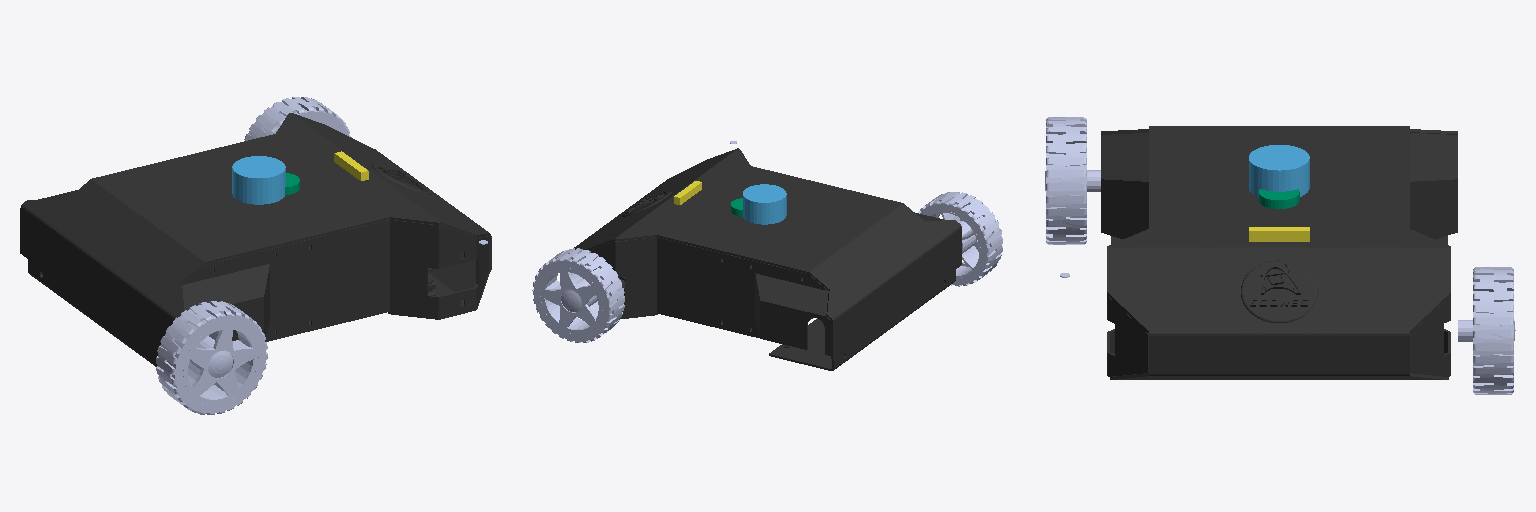
robot.urdf — neor_mini:
<?xml version="1.0" encoding="utf-8"?>
<!-- This URDF was automatically created by SolidWorks to URDF Exporter! Originally created by [author] ([email redacted]) 
     Commit Version: 1.5.1-0-g916b5db  Build Version: 1.5.7152.31018
     For more information, please see http://wiki.ros.org/sw_urdf_exporter -->
<robot name="neor_mini">

  <!-- Add Gazebo plugins -->
    <!-- Load ros_control plugin using the steer_bot_hardware_gazebo
    implementation of the hardware_interface::RobotHW -->

  <gazebo>
    <plugin name="gazebo_ros_control" filename="libgazebo_ros_control.so">
      <robotSimType>steer_bot_hardware_gazebo/SteerBotHardwareGazebo</robotSimType>
      <legacyModeNS>false</legacyModeNS>
    </plugin>
  </gazebo>

    <link name="base_link">
    <!-- avoid root link inertia warnings, annotation -->
    <inertial>
      <origin
        xyz="0.030649671440691 -1.79069899872708E-05 0.0558717976709459"
        rpy="0 0 0" />
      <mass
        value="1.72617713171385" />
      <inertia
        ixx="0.0107311274569357"
        ixy="-3.24164649120244E-08"
        ixz="0.00169188715816868"
        iyy="0.0198871551919603"
        iyz="2.40252669081509E-07"
        izz="0.0269841937242323" />
    </inertial>

    <visual>
      <origin xyz="0 0 0" rpy="0 0 0" />
      <geometry>
        <mesh filename="package://neor_mini/meshes/base_link.dae" />
      </geometry>
      <material name="">
      <color rgba="0.250980392156863 0.250980392156863 0.250980392156863 1" /> 
      </material> 
    </visual>
    <collision>
      <origin
        xyz="0 0 0"
        rpy="0 0 0" />
      <geometry>
        <mesh
          filename="package://neor_mini/meshes/base_link.STL" />
      </geometry>
    </collision>
  </link>
  <link
    name="rear_wheel_link">
    <inertial>
      <origin
        xyz="-8.88178419700125E-16 -2.05391259555654E-14 -0.00112500000001892"
        rpy="0 0 0" />
      <mass
        value="5.65486677646169E-05" />
      <inertia
        ixx="1.32005796313028E-10"
        ixy="-1.938704560671E-27"
        ixz="2.13770572261755E-26"
        iyy="1.32005796313028E-10"
        iyz="-7.60216295195271E-25"
        izz="2.03575203952622E-10" />
    </inertial>
    <visual>
      <origin
        xyz="0 0 0"
        rpy="0 0 0" />
      <geometry>
        <mesh
          filename="package://neor_mini/meshes/rear_wheel_link.STL" />
      </geometry>
      <material
        name="">
        <color
          rgba="0.274509803921569 1 0.247058823529412 1" />
      </material>
    </visual>
    <collision>
      <origin
        xyz="0 0 0"
        rpy="0 0 0" />
      <geometry>
        <mesh
          filename="package://neor_mini/meshes/rear_wheel_link.STL" />
      </geometry>
    </collision>
  </link>
  <joint
    name="rear_wheel_joint"
    type="continuous">
    <origin
      xyz="-0.181499999999597 0 0.0399999999987674"
      rpy="0 0 0" />
    <parent
      link="base_link" />
    <child
      link="rear_wheel_link" />
    <axis
      xyz="0 1 0" />
  </joint>
  <link
    name="left_rear_link">
    <inertial>
      <origin
        xyz="7.85229659072684E-11 -0.0196762547002777 4.85059770127805E-11"
        rpy="0 0 0" />
      <mass
        value="0.29556182905038" />
      <inertia
        ixx="0.000374087423652291"
        ixy="2.19336154342606E-13"
        ixz="-5.50404301757561E-12"
        iyy="0.000661017199375587"
        iyz="-5.10049385981967E-14"
        izz="0.000374087441459994" />
    </inertial>
    <visual>
      <origin
        xyz="0 0 0"
        rpy="0 0 0" />
      <geometry>
        <mesh
          filename="package://neor_mini/meshes/left_rear_link.STL" />
      </geometry>
      <material
        name="">
        <color
          rgba="0.792156862745098 0.819607843137255 0.933333333333333 1" />
      </material>
    </visual>
    <collision>
      <origin
        xyz="0 0 0"
        rpy="0 0 0" />
      <geometry>
        <mesh
          filename="package://neor_mini/meshes/left_rear_link.STL" />
      </geometry>
    </collision>
  </link>
  <joint
    name="left_rear_joint"
    type="continuous">
    <origin
      xyz="-0.181499999999595 0.228542434993694 0.0399999999991634"
      rpy="0 0 0" />
    <parent
      link="base_link" />
    <child
      link="left_rear_link" />
    <axis
      xyz="0 1 0" />
    <limit
      lower="-3.14"
      upper="3.14"
      effort="0"
      velocity="0" />
  </joint>
  <link
    name="right_rear_link">
    <inertial>
      <origin
        xyz="7.8521189550429E-11 0.0196762545376323 3.35983463273237E-11"
        rpy="0 0 0" />
      <mass
        value="0.295561829050389" />
      <inertia
        ixx="0.000374087423652306"
        ixy="-2.1933774523493E-13"
        ixz="5.50404145624456E-12"
        iyy="0.000661017199375601"
        iyz="-5.10073974604221E-14"
        izz="0.000374087441459995" />
    </inertial>
    <visual>
      <origin
        xyz="0 0 0"
        rpy="0 0 0" />
      <geometry>
        <mesh
          filename="package://neor_mini/meshes/right_rear_link.STL" />
      </geometry>
      <material
        name="">
        <color
          rgba="0.792156862745098 0.819607843137255 0.933333333333333 1" />
      </material>
    </visual>
    <collision>
      <origin
        xyz="0 0 0"
        rpy="0 0 0" />
      <geometry>
        <mesh
          filename="package://neor_mini/meshes/right_rear_link.STL" />
      </geometry>
    </collision>
  </link>
  <joint
    name="right_rear_joint"
    type="continuous">
    <origin
      xyz="-0.181499999999595 -0.228542434994426 0.0399999999991584"
      rpy="0 0 0" />
    <parent
      link="base_link" />
    <child
      link="right_rear_link" />
    <axis
      xyz="0 1 0" />
    <limit
      lower="-3.14"
      upper="3.14"
      effort="0"
      velocity="0" />
  </joint>
  <link
    name="front_steer_link">
    <inertial>
      <origin
        xyz="-2.1316282072803E-14 3.67778030252452E-11 -0.00112486602459905"
        rpy="0 0 0" />
      <mass
        value="5.65486677646163E-05" />
      <inertia
        ixx="1.32005796313026E-10"
        ixy="1.16322273640277E-26"
        ixz="1.20446157864484E-28"
        iyy="1.32005796313026E-10"
        iyz="-8.66481261175625E-27"
        izz="2.03575203952619E-10" />
    </inertial>
    <visual>
      <origin
        xyz="0 0 0"
        rpy="0 0 0" />
      <geometry>
        <mesh
          filename="package://neor_mini/meshes/front_steer_link.STL" />
      </geometry>
      <material
        name="">
        <color
          rgba="0.274509803921569 1 0.247058823529412 1" />
      </material>
    </visual>
    <collision>
      <origin
        xyz="0 0 0"
        rpy="0 0 0" />
      <geometry>
        <mesh
          filename="package://neor_mini/meshes/front_steer_link.STL" />
      </geometry>
    </collision>
  </link>
  <joint
    name="front_steer_joint"
    type="revolute">
    <origin
      xyz="0.172883370897628 0 -0.00376561854722868"
      rpy="0 0 0" />
    <parent
      link="base_link" />
    <child
      link="front_steer_link" />
    <axis
      xyz="0 0 1" />
    <limit
      lower="-0.72"
      upper="0.72"
      effort="0"
      velocity="0" />
  </joint>

<!-- In order to fit ackermann simulation plugins's request,amend the front steer link and it's joint -->
 <link name="front_steer_right_link">
 <!--  remember add inertial  label,if not,and it can't visual on gazebo-->
 <inertial>  
      <origin xyz="9.44636555644252E-08 -0.000295273745285485 -8.13046296954667E-11" rpy="0 0 0" />
      <mass value="0.296315811300368" /> 
      <inertia
        ixx="0.000374692013709393"
        ixy="-9.17172260383823E-08"
        ixz="-2.43187512356516E-12"
        iyy="0.000661029987747155"
        iyz="1.9736939507106E-13"
        izz="0.000374691963930348" />
    </inertial>
   <visual>
     <geometry>
       <cylinder length="0.001" radius="0.005"/>
     </geometry>
     <origin rpy="0 0 0"  xyz="0 0 0" />
     <material name=""> 
          <color rgba="0.792156862745098 0.819607843137255 0.933333333333333 1" />
     </material>
   </visual>
   <collision>
      <origin
        xyz="0 0 0"
        rpy="0 0 0" />
      <geometry>
       <cylinder length="0.001" radius="0.005"/>
      </geometry>
    </collision>
 </link>
 <joint name="front_steer_right_joint" type="revolute">
    <origin rpy="0 0 0"  xyz="0.17 -0.21 0.102" />
    <parent link="base_link" />
    <child link="front_steer_right_link" />
    <axis xyz="0 0 1" />     <!-- charge steer direction default is 0 0 1-->
    <limit lower="-0.69" upper="0.69" effort="0" velocity="0" />
 </joint>
<!-- ************************************************************************************* -->

  <link
    name="front_right_wheel_link">
    <inertial>
      <origin
        xyz="9.44636555644252E-08 -0.000295273745285485 -8.13046296954667E-11"
        rpy="0 0 0" />
      <mass
        value="0.296315811300368" />
      <inertia
        ixx="0.000374692013709393"
        ixy="-9.17172260383823E-08"
        ixz="-2.43187512356516E-12"
        iyy="0.000661029987747155"
        iyz="1.9736939507106E-13"
        izz="0.000374691963930348" />
    </inertial>
    <visual>
      <origin
        xyz="0 0 0"
        rpy="0 0 0" />
      <geometry>
        <mesh
          filename="package://neor_mini/meshes/front_right_wheel_link.STL" />
      </geometry>
      <material
        name="">
        <color
          rgba="0.792156862745098 0.819607843137255 0.933333333333333 1" />
      </material>
    </visual>
    <collision>
      <origin
        xyz="0 0 0"
        rpy="0 0 0" />
      <geometry>
        <mesh
          filename="package://neor_mini/meshes/front_right_wheel_link.STL" />
      </geometry>
    </collision>
  </link>
  <joint name="front_right_wheel_joint" type="continuous">
    <origin xyz="0 0 -0.06" rpy="0 0 0" />   <!-- amend the position between steer_right_link and front right wheel-->
    <parent link="front_steer_right_link" />
    <child  link="front_right_wheel_link" />
    <axis xyz="0 1 0" />
  </joint>

<!-- In order to fit ackermann simulation plugins's request,amend the front steer link and it's joint -->
 <link name="front_steer_left_link">
 <!--  remember add inertial  label,if not,and it can't visual on gazebo-->
    <inertial> 
      <origin xyz="9.44636555644252E-08 -0.000295273745285485 -8.13046296954667E-11" rpy="0 0 0" />
      <mass value="0.296315811300368" /> 
      <inertia
        ixx="0.000374692013709393"
        ixy="-9.17172260383823E-08"
        ixz="-2.43187512356516E-12"
        iyy="0.000661029987747155"
        iyz="1.9736939507106E-13"
        izz="0.000374691963930348" />
    </inertial>
   <visual>
     <geometry>
       <cylinder length="0.001" radius="0.005"/>
     </geometry>
     <origin rpy="0 0 0"  xyz="0 0 0" />
   </visual>
    <collision>
      <origin xyz="0 0 0" rpy="0 0 0" />
      <geometry>
       <cylinder length="0.001" radius="0.005"/>
      </geometry>
    </collision>
 </link>
 <joint name="front_steer_left_joint" type="revolute">
    <origin rpy="0 0 0"  xyz="0.17 0.21 0.102" />
    <parent link="base_link" />
    <child link="front_steer_left_link" />
    <axis xyz="0 0 1" />  <!-- charge steer direction default is 0 0 1-->
    <limit lower="-0.69" upper="0.69" effort="0" velocity="0" />
 </joint>
<!-- ************************************************************************************* -->

  <link
    name="front_left_wheel_link">
    <inertial>
      <origin
        xyz="-3.99413835339146E-11 0.000295273997845347 1.08602016268833E-10"
        rpy="0 0 0" />
      <mass
        value="0.296315811293944" />
      <inertia
        ixx="0.00037469197851121"
        ixy="-1.84493877596723E-13"
        ixz="-9.50756757097929E-12"
        iyy="0.00066103001709398"
        iyz="-1.17866882205563E-13"
        izz="0.000374691969713977" />
    </inertial>
    <visual>
      <origin
        xyz="0 0 0"
        rpy="0 0 0" />
      <geometry>
        <mesh
          filename="package://neor_mini/meshes/front_left_wheel_link.STL" />
      </geometry>
      <material
        name="">
        <color
          rgba="0.792156862745098 0.819607843137255 0.933333333333333 1" />
      </material>
    </visual>
    <collision>
      <origin
        xyz="0 0 0"
        rpy="0 0 0" />
      <geometry>
        <mesh
          filename="package://neor_mini/meshes/front_left_wheel_link.STL" />
      </geometry>
    </collision>
  </link>
  <joint name="front_left_wheel_joint" type="continuous">
    <origin xyz="0 0 -0.06" rpy="0 0 0" />      <!-- amend the position between steer_left_link and front left wheel-->
    <parent link="front_steer_left_link" />
    <child link="front_left_wheel_link" />
    <axis xyz="0 1 0" /> 
  </joint>


  <!--  add laser link -->
  <link name="laser_link">
    <visual>
      <geometry>
        <cylinder length="0.04" radius="0.03"/>
      </geometry>
    </visual>
  </link>
  <joint name ="2Dlaser_joints" type="fixed">
    <origin xyz="0.0 0.0 0.13" rpy="0.0 0.0 0.0"/>
    <parent link="base_link"/>
    <child link="laser_link"/>
  </joint>
    <!--  add laser link -->
  <link name="laser_link2">
    <visual>
      <geometry>
        <cylinder length="0.03" radius="0.02"/>
      </geometry>
    </visual>
  </link>
  <joint name ="2Dlaser_joints2" type="fixed">
    <origin xyz="0.03 0.0 0.112" rpy="0.0 0.0 0.0"/>
    <parent link="base_link"/>
    <child link="laser_link2"/>
  </joint>
  <!--*********************************************************************-->
 
  <link name="camera_link">
    <visual>
      <geometry>
        <box size="0.01 0.06 0.017"/>
      </geometry>
    </visual>
  </link>
  <joint name ="camera_joints" type="fixed">
    <origin xyz="0.12 0.0 0.12" rpy="0.0 0.0 0.0"/>   
    <parent link="base_link"/>
    <child link="camera_link"/>
  </joint>
  <!--*********************************************************************-->

  <!--  add imu llink   -->
  <link name="imu_link">
    <visual>
      <geometry>
        <box size="0.015 0.015 0.007"/>
      </geometry>
    </visual>
  </link>
  <joint name ="imu_joints" type="fixed">
    <origin xyz="-0.10 0.0 0.02" rpy="0.0 0.0 0.0"/>
    <parent link="base_link"/>
    <child link="imu_link"/>
  </joint>
  <!--*********************************************************************-->


  <!--add color for links -->
  <gazebo reference="base_link">
    <material>Gazebo/DarkGrey </material>
  </gazebo>

  <gazebo reference="front_steer_left_link">
    <material>Gazebo/Road</material>
  </gazebo>

  <gazebo reference="front_steer_right_link">
    <material>Gazebo/Road</material>
  </gazebo>

  <gazebo reference="front_left_wheel_link">
    <material>Gazebo/Road</material>
  </gazebo>

  <gazebo reference="front_right_wheel_link">
    <material>Gazebo/Road</material>
  </gazebo>
  
  <gazebo reference="left_rear_link">
    <material>Gazebo/Road</material>
  </gazebo>

  <gazebo reference="right_rear_link">
    <material>Gazebo/Road</material>
  </gazebo>

  <gazebo reference="laser_link">
    <material>Gazebo/Black</material>
  </gazebo>
  <gazebo reference="laser_link2">
    <material>Gazebo/GreyTransparent</material>
  </gazebo>

   <gazebo reference="camera_link">
    <material>Gazebo/Black</material>
  </gazebo>

  <gazebo reference="imu_link">
    <material>Gazebo/Black</material>
  </gazebo>
  <!--*********************************************************************-->

  <!-- add camera simulation plugines -->
  <gazebo reference="camera_link">
    <sensor type="camera" name="camera1">
      <update_rate>30.0</update_rate>
      <camera name="head">
        <horizontal_fov>1.3962634</horizontal_fov>
        <image>
          <width>800</width>
          <height>800</height>
          <format>R8G8B8</format>
        </image>
        <clip>
          <near>0.02</near>
          <far>300</far>
        </clip>
        <noise>
          <type>gaussian</type>
          <mean>0.0</mean>
          <stddev>0.007</stddev>
        </noise>
      </camera>
      <plugin name="camera_controller" filename="libgazebo_ros_camera.so">
        <alwaysOn>true</alwaysOn>
        <updateRate>0.0</updateRate>
        <cameraName>/camera1</cameraName>
        <imageTopicName>image_raw</imageTopicName>
        <cameraInfoTopicName>camera_info</cameraInfoTopicName>
        <frameName>base_link</frameName>
        <hackBaseline>0.07</hackBaseline>
        <distortionK1>0.0</distortionK1>
        <distortionK2>0.0</distortionK2>
        <distortionK3>0.0</distortionK3>
        <distortionT1>0.0</distortionT1>
        <distortionT2>0.0</distortionT2>
      </plugin>
    </sensor>
  </gazebo>
  <!--*********************************************************************-->



  <!-- add laser simulation plugines adaptored for rplidar A1M8 -->
  <gazebo reference="laser_link">
    <sensor type="ray" name="Top_laser_sensor">
      <visualize>false</visualize>
      <update_rate>40</update_rate>
      <ray>
        <scan>
          <horizontal>
            <samples>720</samples>
            <resolution>1</resolution>
            <min_angle>-3.1415926</min_angle>
            <max_angle>3.1415926</max_angle>
          </horizontal>
        </scan>
        <range>
          <min>0.01</min>
          <max>12.0</max>
          <resolution>0.05</resolution>
         </range>
        <noise>
          <type>gaussian</type>
          <mean>0.0</mean>
          <stddev>0.01</stddev>
        </noise>
      </ray>
      <plugin name="gazebo_ros_head_laser_controller" filename="libgazebo_ros_laser.so">
        <topicName>/scan</topicName>
        <frameName>laser_link</frameName>
      </plugin>
    </sensor>
  </gazebo>
  <!--*********************************************************************-->

  <!-- add imu link simlations plugines  -->
  <gazebo reference="imu_link">
    <gravity>true</gravity>
    <sensor name="imu_sensor" type="imu">
      <always_on>true</always_on>
      <update_rate>100</update_rate>
      <visualize>true</visualize>
      <topic>__default_topic__</topic>
      <plugin filename="libgazebo_ros_imu_sensor.so" name="imu_plugin">
        <topicName>imu</topicName>
        <bodyName>imu_link</bodyName>
        <updateRateHZ>10.0</updateRateHZ>
        <gaussianNoise>0.0</gaussianNoise>
        <xyzOffset>0 0 0</xyzOffset>
        <rpyOffset>0 0 0</rpyOffset>
        <frameName>imu_link</frameName>
        <initialOrientationAsReference>false</initialOrientationAsReference>
      </plugin>
      <pose>0 0 0 0 0 0</pose>
    </sensor>
  </gazebo>

</robot>

--- Facts derived from the render (not from the file) ---
The picture shows the robot from 3 angles, left to right: view 1: azimuth 30°, elevation 25°; view 2: azimuth 150°, elevation 25°; view 3: azimuth 270°, elevation 25°; orthographic projection.
Robot: neor_mini — 13 links, 12 joints (3 revolute, 5 continuous, 4 fixed); root link base_link; default pose: all joints at 0.
Links seen in each view (by area): view 1: base_link, right_rear_link, laser_link, front_left_wheel_link; view 2: base_link, front_left_wheel_link, right_rear_link, laser_link; view 3: base_link, front_left_wheel_link, right_rear_link, laser_link, camera_link, laser_link2.
Link boxes in pixels (x1=…): base_link: x1=20, y1=113, x2=491, y2=366; right_rear_link: x1=156, y1=301, x2=267, y2=414; laser_link: x1=232, y1=156, x2=285, y2=204; front_left_wheel_link: x1=244, y1=97, x2=351, y2=140; base_link: x1=574, y1=148, x2=961, y2=370; front_left_wheel_link: x1=532, y1=248, x2=624, y2=342; right_rear_link: x1=918, y1=192, x2=1002, y2=286; laser_link: x1=743, y1=184, x2=786, y2=224; base_link: x1=1101, y1=126, x2=1457, y2=379; front_left_wheel_link: x1=1458, y1=267, x2=1515, y2=394; right_rear_link: x1=1045, y1=117, x2=1100, y2=244; laser_link: x1=1249, y1=145, x2=1309, y2=196; camera_link: x1=1249, y1=227, x2=1309, y2=241; laser_link2: x1=1259, y1=189, x2=1299, y2=208.
Bounding box of the posed robot: 0.4765 × 0.4616 × 0.1725 m (x, y, z).
Meshes: 7 distinct files referenced, 5 mesh visuals loaded (4 binary STL, 1 Collada DAE); not drawn: 2 (reference not matched to a file when rendering).
